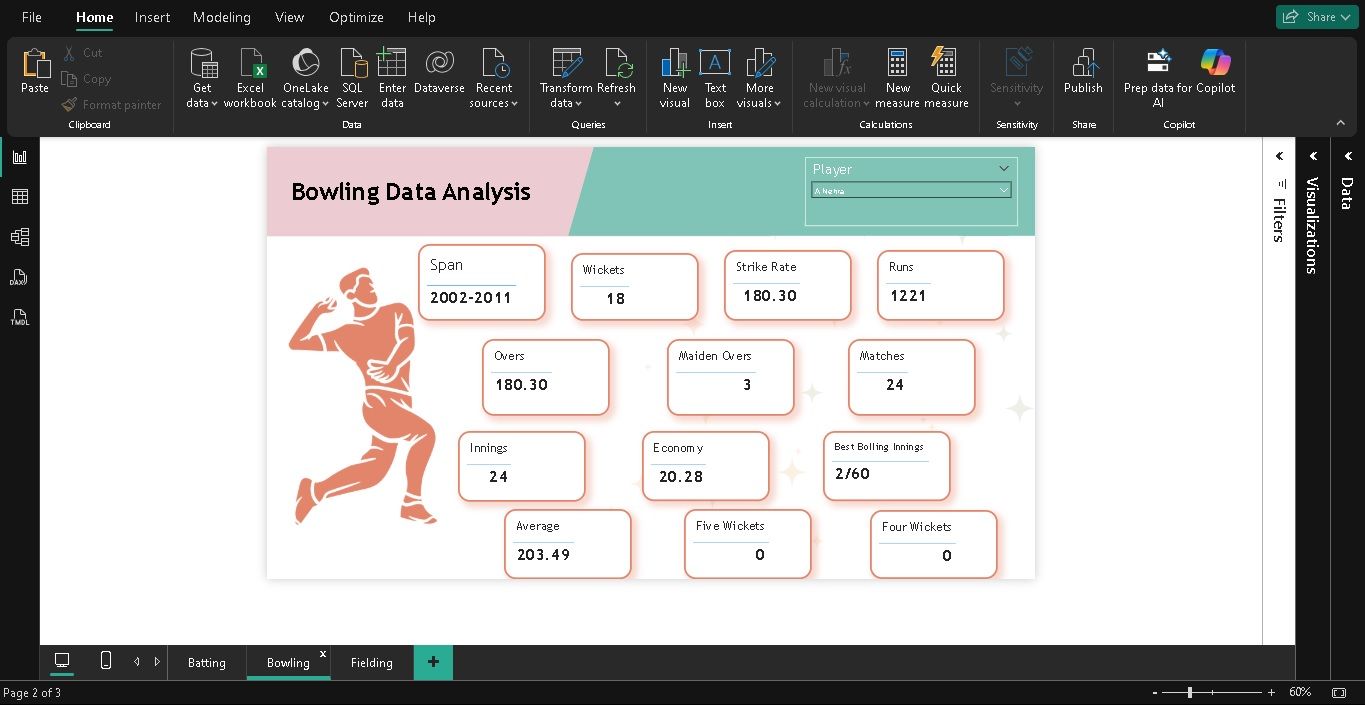

The dashboard page shown, as its layout file describes it:
{"tool":"powerbi","page":{"name":"Bowling","canvas":[1280,720],"ordinal":1},"visuals":[{"type":"shape","box":[0,0,839.1,148.8],"z":0},{"type":"shape","box":[501.7,0,778.3,148.3],"z":1000},{"type":"shape","box":[1158.3,0,121.7,148.3],"z":2000},{"type":"slicer","fields":{"Values":["Bowling.Player"]},"box":[896.7,16.7,355,115],"z":2001},{"type":"tableEx","fields":{"Values":["Bowling.Span"]},"box":[251.7,161.7,213.3,128.3],"z":2002},{"type":"tableEx","fields":{"Values":["Sum(Bowling.4)"]},"box":[1005,605,213.3,115],"z":2003},{"type":"tableEx","fields":{"Values":["Sum(Bowling.Econ)"]},"box":[625,473.3,213.3,116.7],"z":2004},{"type":"tableEx","fields":{"Values":["Bowling.BBI"]},"box":[926.7,473.3,213.3,116.7],"z":2005},{"type":"tableEx","fields":{"Values":["Sum(Bowling.Ave)"]},"box":[395,603.3,213.3,116.7],"z":2006},{"type":"tableEx","fields":{"Values":["Sum(Bowling.5)"]},"box":[695,603.3,213.3,116.7],"z":2007},{"type":"tableEx","fields":{"Values":["Sum(Bowling.Overs)"]},"box":[358.3,320,213.3,128.3],"z":2008},{"type":"tableEx","fields":{"Values":["Sum(Bowling.Mdns)"]},"box":[666.7,320,213.3,128.3],"z":2009},{"type":"tableEx","fields":{"Values":["Sum(Bowling.Mat)"]},"box":[968.3,320,213.3,128.3],"z":2010},{"type":"tableEx","fields":{"Values":["Sum(Bowling.Inns)"]},"box":[318.3,473.3,213.3,118.3],"z":2011},{"type":"tableEx","fields":{"Values":["Sum(Bowling.Wkts)"]},"box":[506.7,176.7,213.3,113.3],"z":2012},{"type":"tableEx","fields":{"Values":["Sum(Bowling.SR)"]},"box":[761.7,171.7,213.3,118.3],"z":2013},{"type":"tableEx","fields":{"Values":["Sum(Bowling.Runs)"]},"box":[1016.7,171.7,213.3,118.3],"z":2014}]}

Visuals, with their boxes on the page's 1280x720 design canvas (x1, y1, x2, y2). These are canvas units, not pixel positions in the 1365x707 screenshot, which may show the page scaled, cropped or inside an application window:
shape: Rect(0, 0, 839, 149)
shape: Rect(502, 0, 1280, 148)
shape: Rect(1158, 0, 1280, 148)
slicer - Bowling.Player: Rect(897, 17, 1252, 132)
tableEx - Bowling.Span: Rect(252, 162, 465, 290)
tableEx - Sum(Bowling.4): Rect(1005, 605, 1218, 720)
tableEx - Sum(Bowling.Econ): Rect(625, 473, 838, 590)
tableEx - Bowling.BBI: Rect(927, 473, 1140, 590)
tableEx - Sum(Bowling.Ave): Rect(395, 603, 608, 720)
tableEx - Sum(Bowling.5): Rect(695, 603, 908, 720)
tableEx - Sum(Bowling.Overs): Rect(358, 320, 572, 448)
tableEx - Sum(Bowling.Mdns): Rect(667, 320, 880, 448)
tableEx - Sum(Bowling.Mat): Rect(968, 320, 1182, 448)
tableEx - Sum(Bowling.Inns): Rect(318, 473, 532, 592)
tableEx - Sum(Bowling.Wkts): Rect(507, 177, 720, 290)
tableEx - Sum(Bowling.SR): Rect(762, 172, 975, 290)
tableEx - Sum(Bowling.Runs): Rect(1017, 172, 1230, 290)
